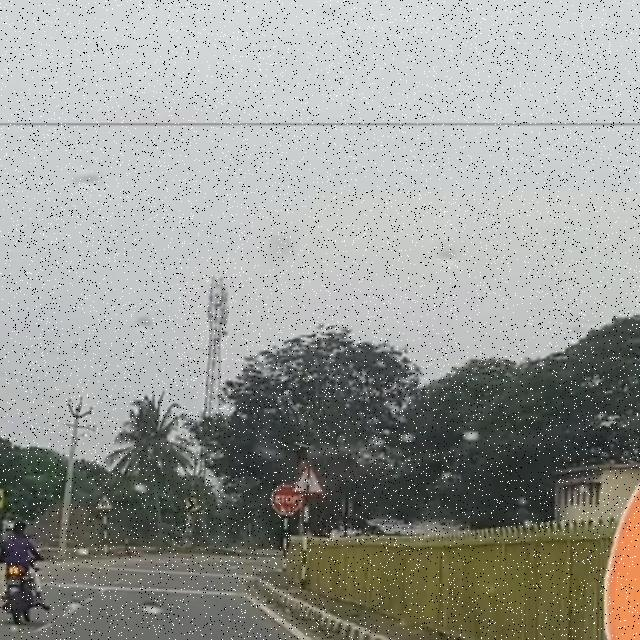stop: (270, 485, 304, 517)
